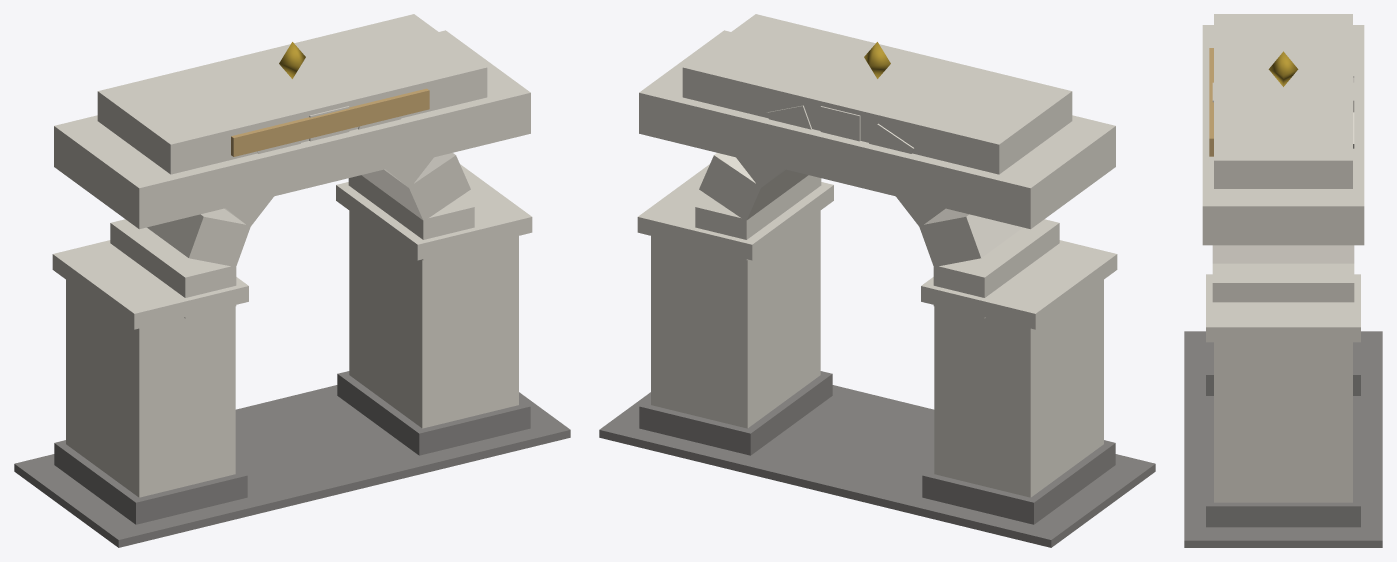
File: gate.fbx
3 renders of one model, left to right at view 1: azimuth 30°, elevation 25°; view 2: azimuth 150°, elevation 25°; view 3: azimuth 270°, elevation 25°, orthographic. The views are drawn at different scales.
Visible parts, largest first — view 1: attic, pier, pier_R_1, entablature, roadbed, pierCap, pierCap_R_1, pierPlinth, pierPlinth_R_1, voussoir, inscription, voussoir_1 (+4 smaller); view 2: attic, pier, pier_R_1, entablature, roadbed, pierCap, pierCap_R_1, pierPlinth, pierPlinth_R_1, voussoir, voussoir_1, voussoir_7 (+6 smaller); view 3: attic, pier_R_1, roadbed, entablature, pierCap_R_1, voussoir_8, pierPlinth_R_1, voussoir_7, pierPlinth, lamp, inscription.
Part boxes in pixels (box(x1,y1,x2,y2)): attic: box(97, 14, 487, 174); pier: box(66, 280, 235, 497); pier_R_1: box(349, 211, 518, 428); entablature: box(54, 30, 530, 229); roadbed: box(14, 385, 570, 547); pierCap: box(52, 240, 248, 329); pierCap_R_1: box(336, 164, 532, 260); pierPlinth: box(54, 440, 247, 524); pierPlinth_R_1: box(337, 371, 530, 455); voussoir: box(110, 219, 236, 318); inscription: box(231, 88, 429, 156); voussoir_1: box(147, 208, 250, 266); attic: box(682, 14, 1072, 174); pier: box(934, 280, 1103, 497); pier_R_1: box(651, 211, 820, 428); entablature: box(639, 30, 1115, 229); roadbed: box(599, 385, 1155, 547); pierCap: box(921, 240, 1117, 329); pierCap_R_1: box(637, 164, 833, 260); pierPlinth: box(922, 440, 1115, 524); pierPlinth_R_1: box(639, 371, 832, 455); voussoir: box(933, 219, 1059, 318); voussoir_1: box(919, 208, 1022, 266); voussoir_7: box(699, 153, 808, 220); attic: box(1214, 14, 1352, 188); pier_R_1: box(1214, 342, 1352, 502); roadbed: box(1184, 331, 1382, 547); entablature: box(1202, 25, 1364, 245); pierCap_R_1: box(1206, 274, 1360, 342); voussoir_8: box(1212, 263, 1354, 302); pierPlinth_R_1: box(1206, 454, 1360, 527); voussoir_7: box(1212, 245, 1354, 263); pierPlinth: box(1206, 342, 1360, 395); lamp: box(1268, 51, 1298, 86); inscription: box(1209, 48, 1213, 156).
Size of the model in its own units: 30 by 26.2 by 12.
